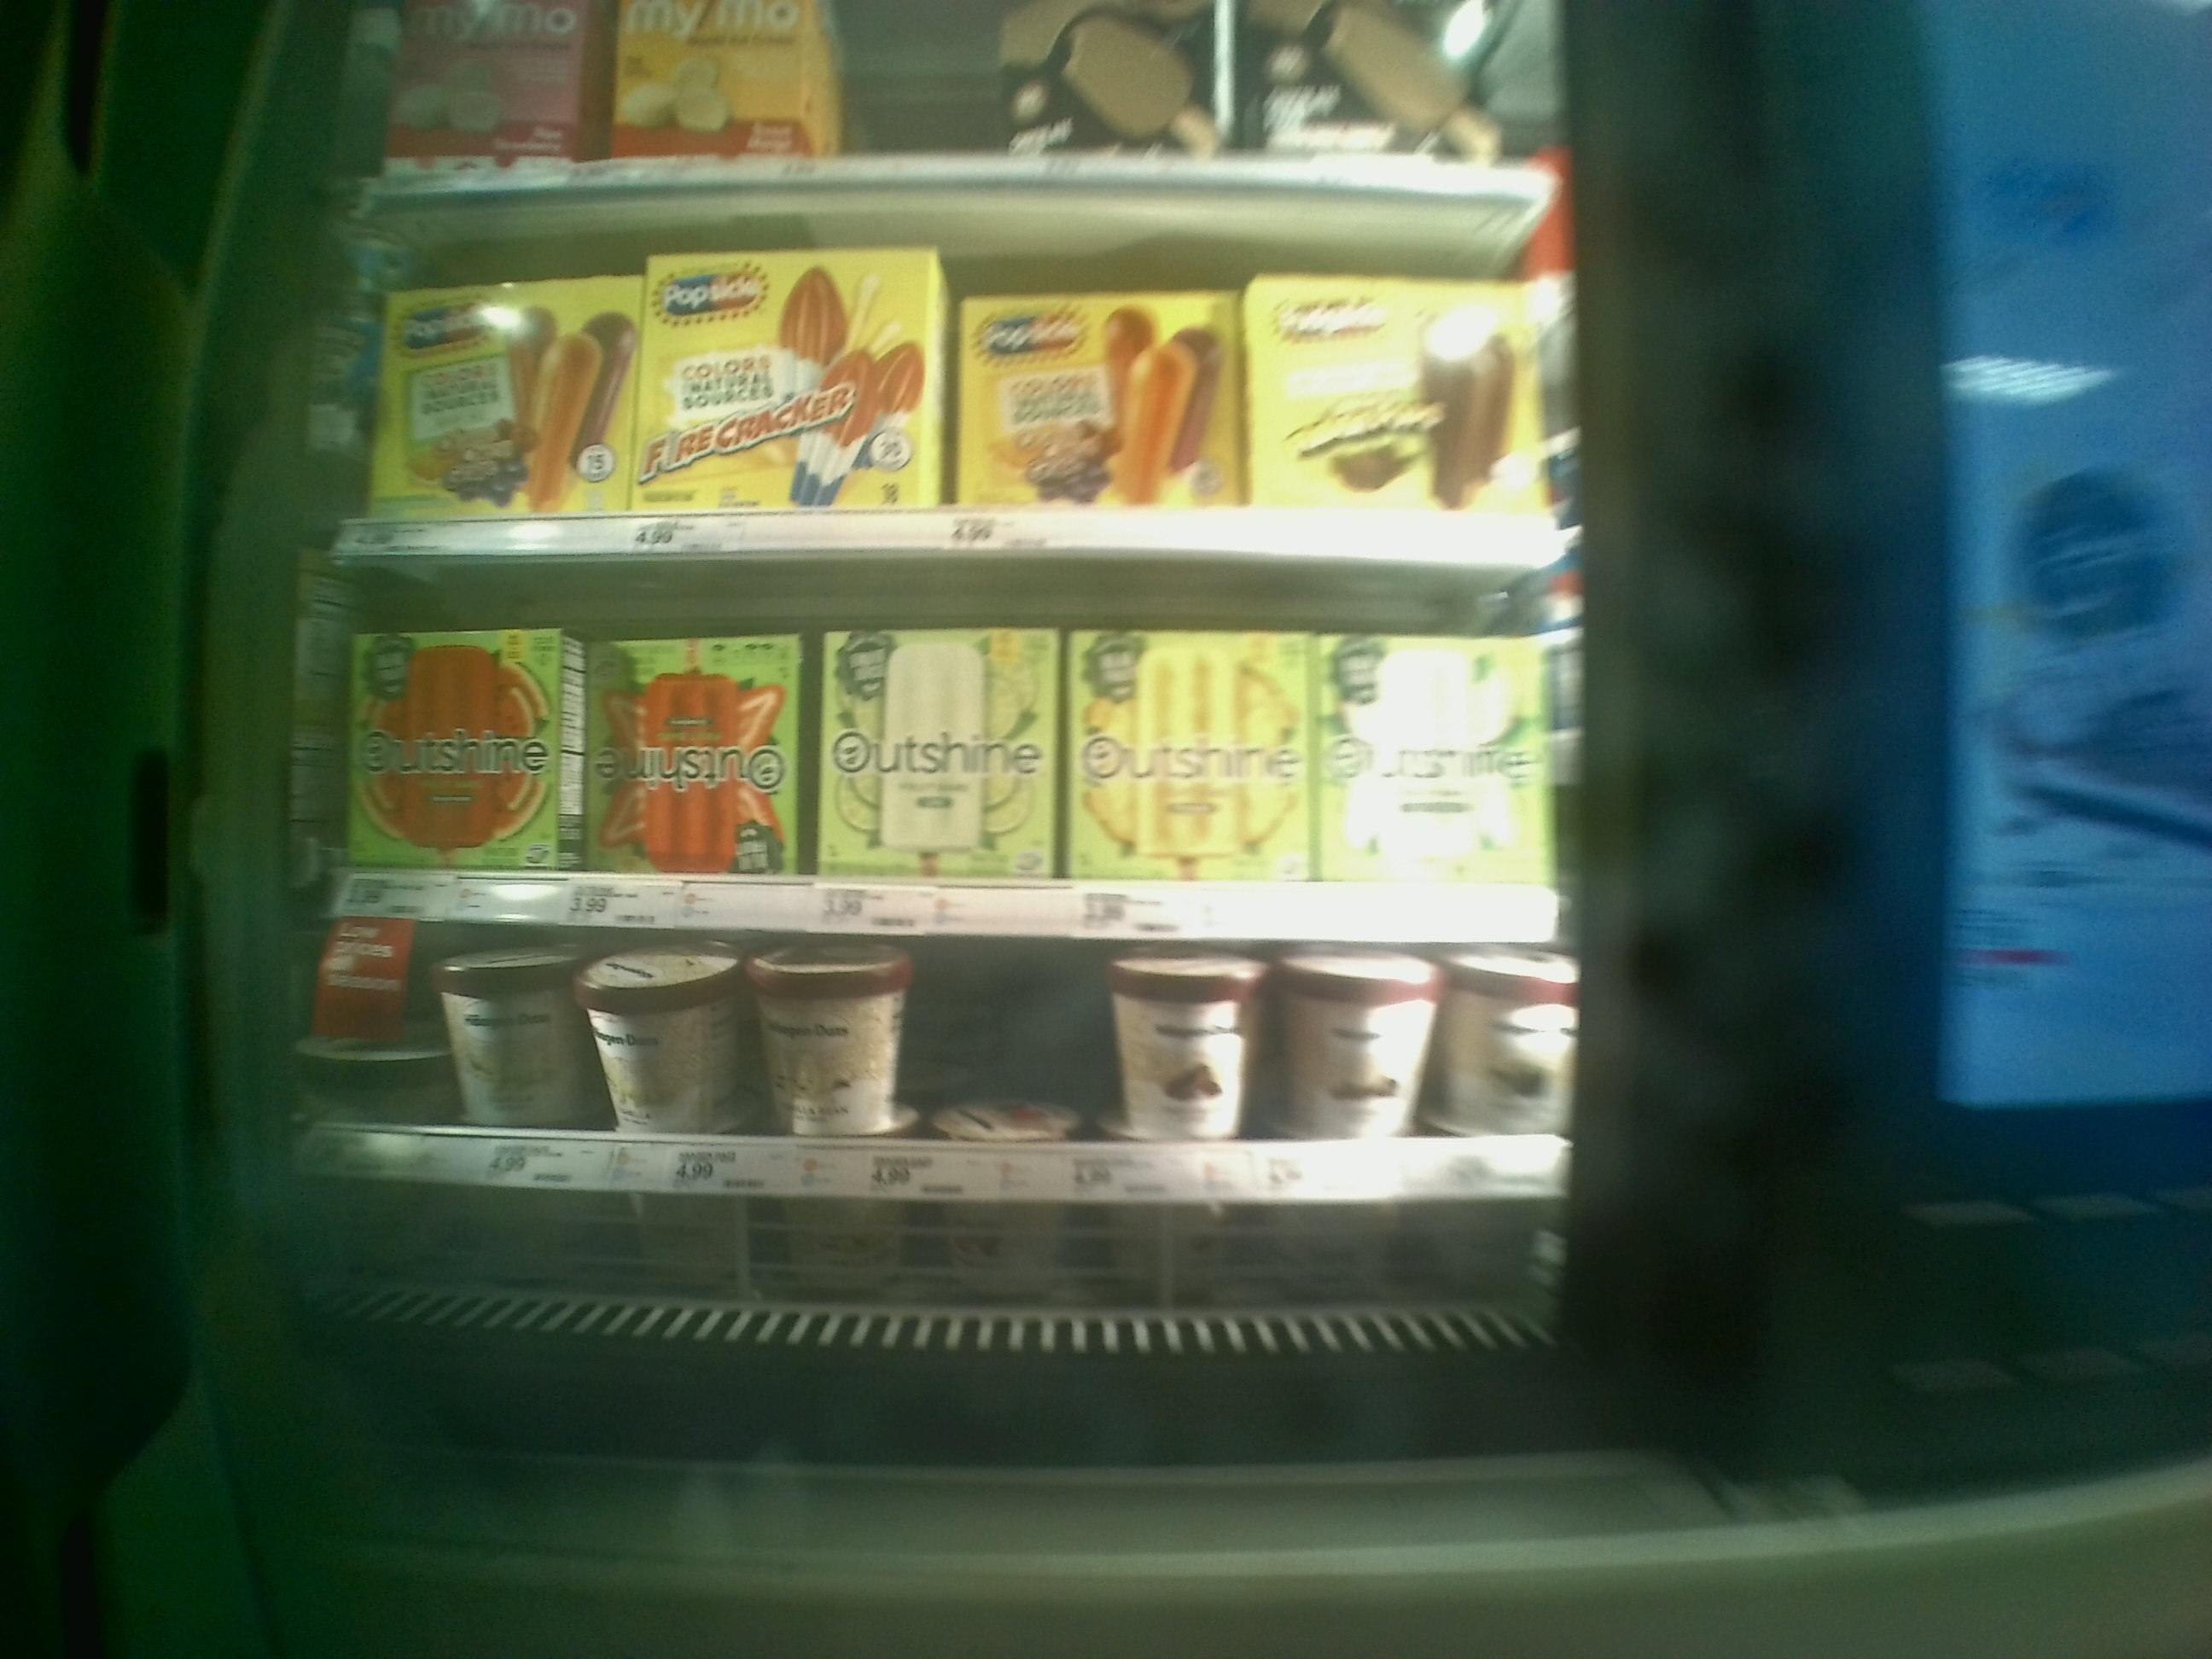ice-cream-shelf: (308, 551, 1581, 929), (366, 193, 1587, 556), (301, 932, 1578, 1199)
